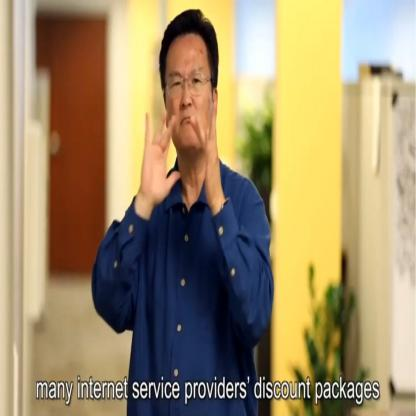Internet: (137, 98, 227, 222)
